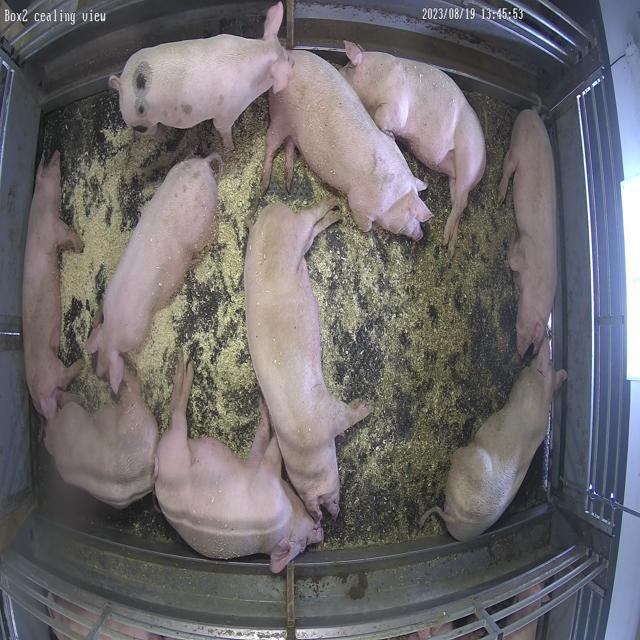Dirt: (321, 92, 522, 550), (507, 453, 546, 516)
Pig: (244, 198, 373, 522), (155, 355, 323, 574), (263, 50, 433, 240), (86, 153, 221, 392), (342, 41, 487, 256), (426, 340, 568, 542), (109, 2, 290, 150), (22, 151, 82, 420), (45, 373, 158, 510), (499, 109, 558, 358)
